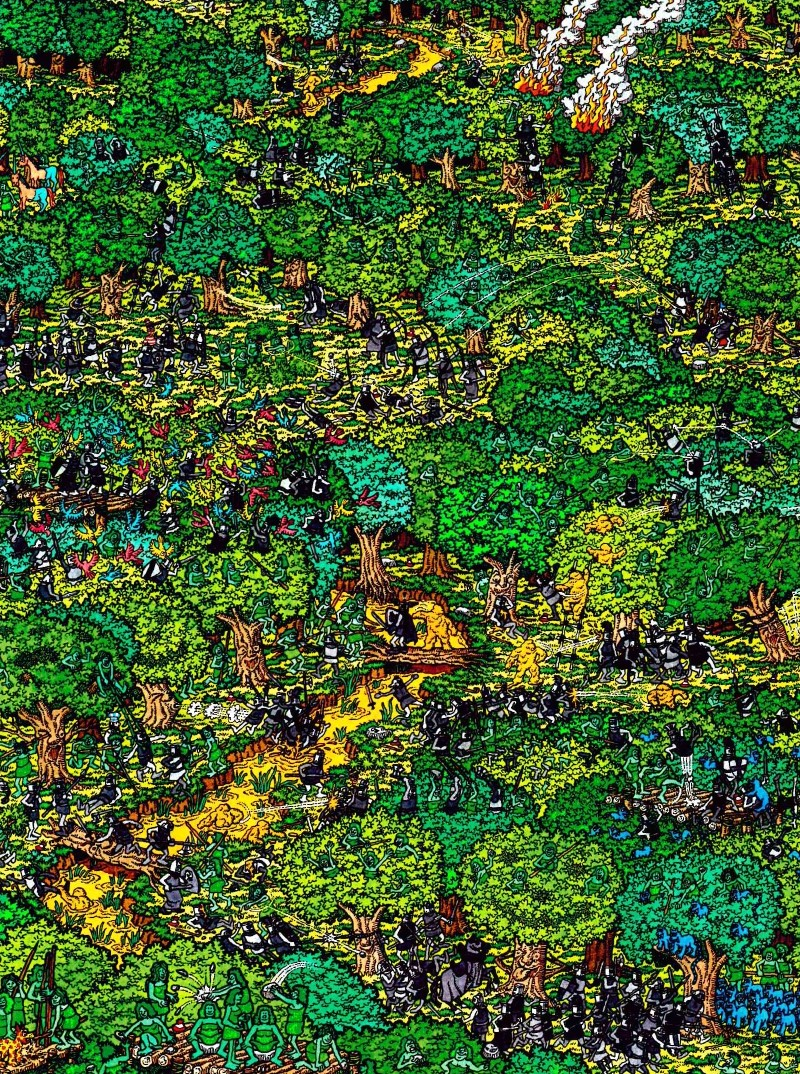waldos: (141, 317, 158, 351)
